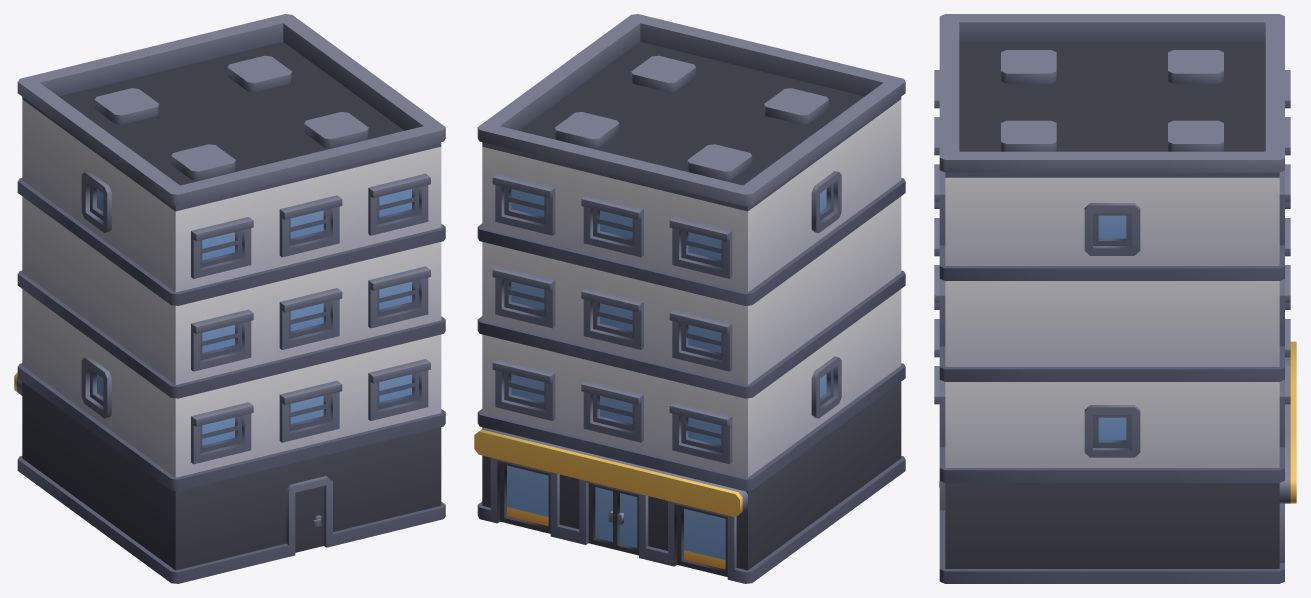
Rendered from building-i.glb.
The picture shows the model from 3 angles, left to right: view 1: azimuth 30°, elevation 25°; view 2: azimuth 150°, elevation 25°; view 3: azimuth 270°, elevation 25°; orthographic projection. The views are drawn at different scales.
Visible parts, largest first — view 1: building-i; view 2: building-i; view 3: building-i.
Part boxes in pixels (x1,y1,x2,y2): building-i: [14, 14, 445, 583]; building-i: [474, 14, 905, 583]; building-i: [934, 14, 1296, 583].
Size of the model in its own units: 1.24 by 1.68 by 1.3.
Materials: 1 (1 with a texture image).
